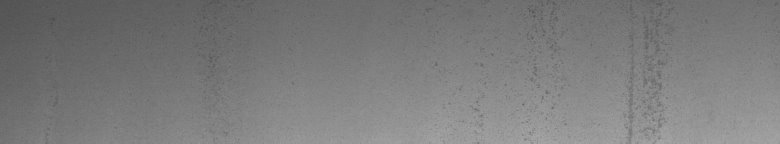ib: (424, 4, 560, 116)
